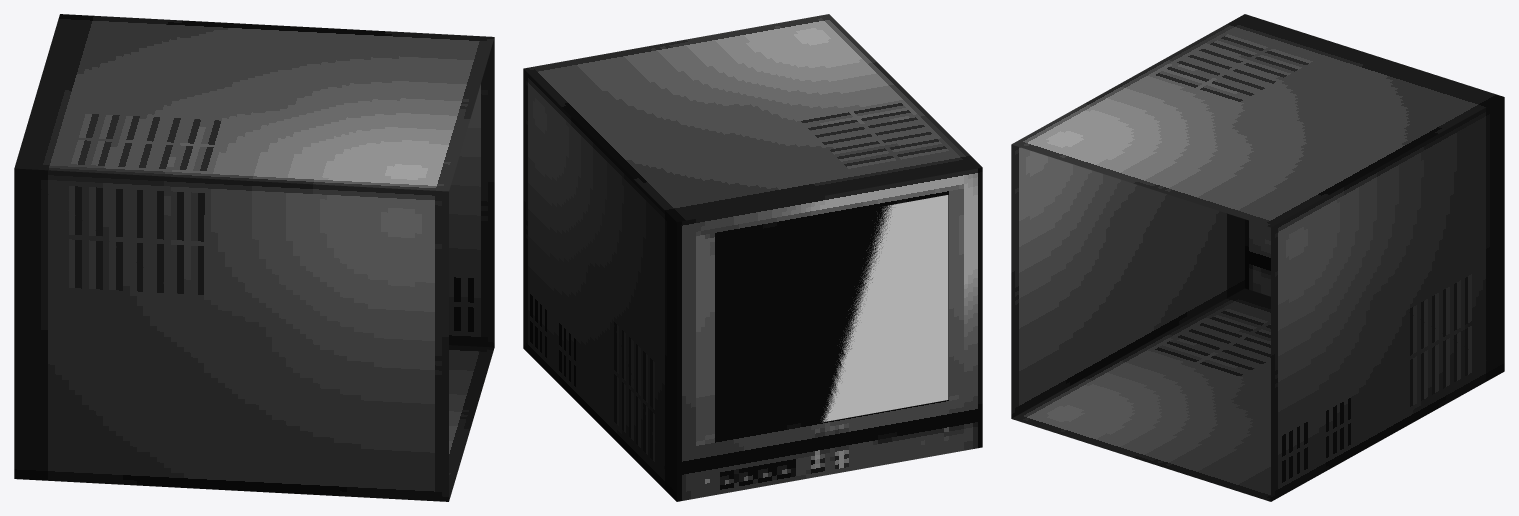
File: primary_129.glb
The picture shows the model from 3 angles, left to right: view 1: azimuth 30°, elevation 25°; view 2: azimuth 150°, elevation 25°; view 3: azimuth 270°, elevation 25°; orthographic projection. The views are drawn at different scales.
Parts seen in each view (by area): view 1: Object; view 2: Object; view 3: Object.
Part boxes in pixels (x1=…): Object: x1=14, y1=14, x2=494, y2=501; Object: x1=523, y1=14, x2=982, y2=501; Object: x1=1011, y1=14, x2=1504, y2=501.
Size of the model in its own units: 1.02 by 0.6122 by 0.9976.
7 materials, 7 textured.
